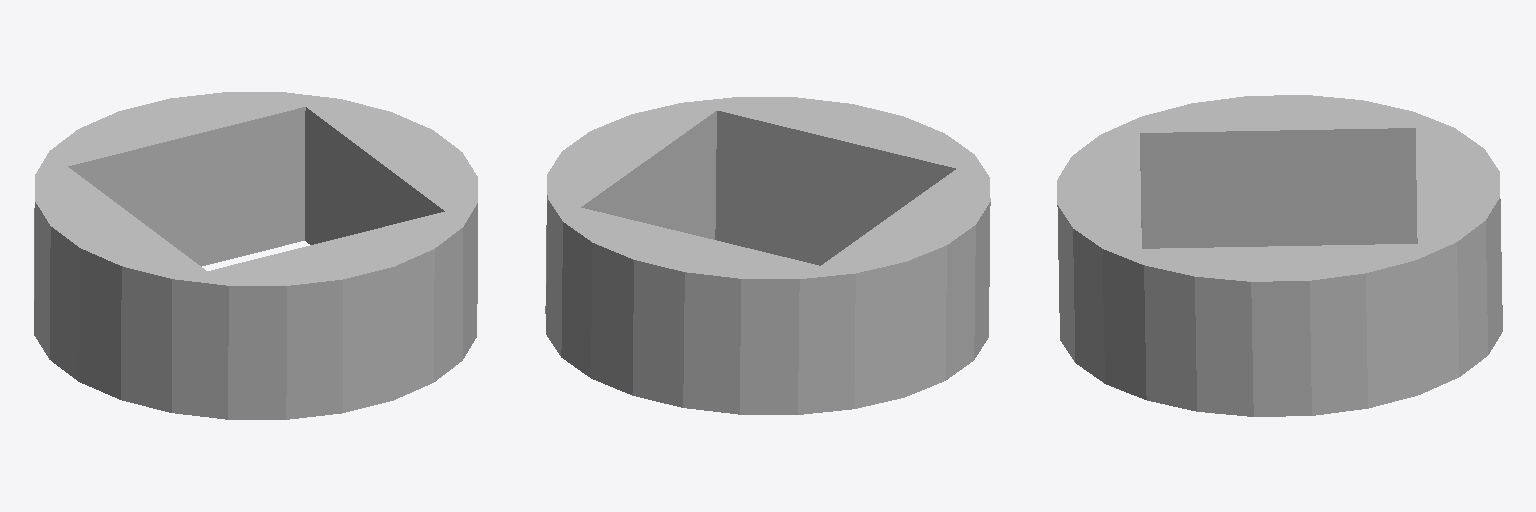
File: carDumper.obj
3 views of the same model, side by side, from view 1: azimuth 30°, elevation 25°; view 2: azimuth 150°, elevation 25°; view 3: azimuth 270°, elevation 25° (orthographic).
Visible parts, largest first — view 1: Tube9; view 2: Tube9; view 3: Tube9.
Boxes of the visible parts, x1=… form: Tube9: x1=34, y1=92, x2=477, y2=419; Tube9: x1=545, y1=97, x2=990, y2=414; Tube9: x1=1057, y1=95, x2=1502, y2=416.
Size of the model in its own units: 5.96 by 2.1 by 5.99.